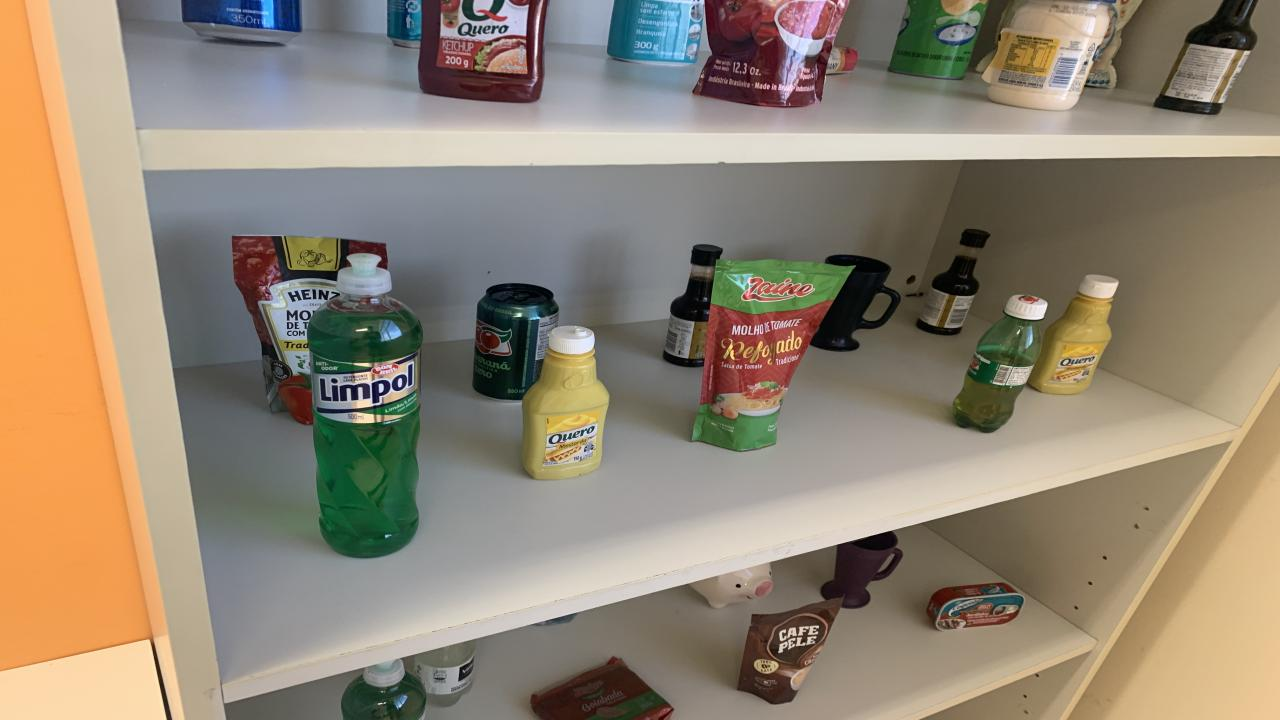Cleaner-Cleanup_Items: (608, 0, 702, 66)
Coffee-Pantry_Items: (738, 598, 842, 703)
Detergent-Cleanup_Items: (308, 253, 422, 557), (340, 660, 428, 720)
English_Sauce-Pantry_Items: (1155, 0, 1258, 114), (918, 229, 990, 336), (662, 244, 722, 368)
Flakes-Snacks: (1085, 0, 1142, 88), (995, 0, 1028, 45), (975, 51, 998, 73)
Guarana-Drinks: (952, 294, 1048, 433)
Guarana_Can-Drinks: (472, 283, 558, 401)
Guava-Snacks: (530, 656, 672, 720)
Ketchup-Pantry_Items: (418, 0, 548, 103)
Mayonnaise-Pantry_Items: (982, 0, 1110, 111)
Mustard-Pantry_Items: (520, 326, 610, 480), (1028, 274, 1118, 394)
Pig_Safe-Miscellaneous: (690, 562, 772, 609)
Pringles-Snacks: (888, 0, 988, 79)
Soap-Cleanup_Items: (825, 45, 858, 75)
Soda-Drinks: (412, 641, 475, 707)
Tea-Drinks: (388, 0, 422, 47)
Tomato_Sauce-Pantry_Items: (692, 261, 852, 450), (232, 236, 388, 426), (692, 0, 848, 107)
Tonic-Drinks: (180, 0, 302, 45)
Tuna_Can-Pantry_Items: (928, 583, 1025, 630)
